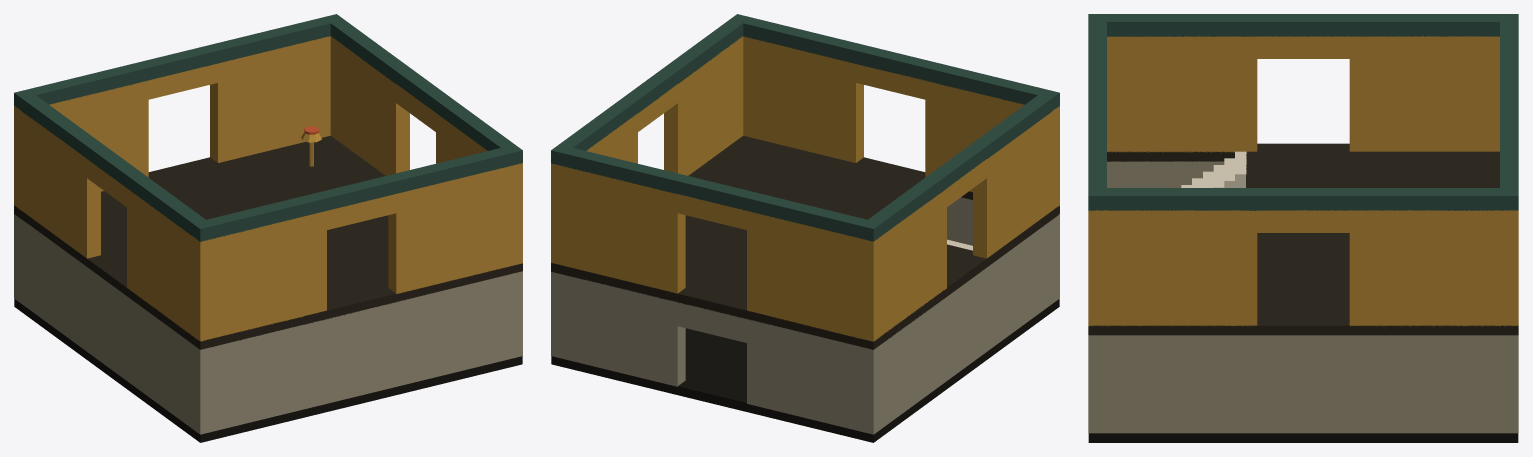
Rendered from BronzeStairDown.fbx.
3 renders of one model, left to right at view 1: azimuth 30°, elevation 25°; view 2: azimuth 150°, elevation 25°; view 3: azimuth 270°, elevation 25°, orthographic. The views are drawn at different scales.
Visible parts, largest first — view 1: BronzeStairDown; view 2: BronzeStairDown; view 3: BronzeStairDown.
Boxes of the visible parts, left/top/right/bottom form: BronzeStairDown: left=14, top=14, right=522, bottom=442; BronzeStairDown: left=551, top=14, right=1059, bottom=442; BronzeStairDown: left=1088, top=14, right=1518, bottom=442.
Bounding box in the file's own units: 1202 × 762 × 1202.
7 materials, 7 textured.
